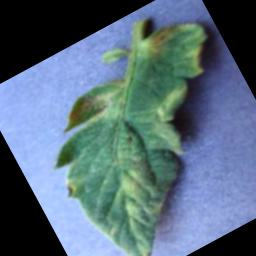Leaf_Mold: (103, 160, 169, 230), (140, 22, 183, 61), (60, 178, 83, 203)
